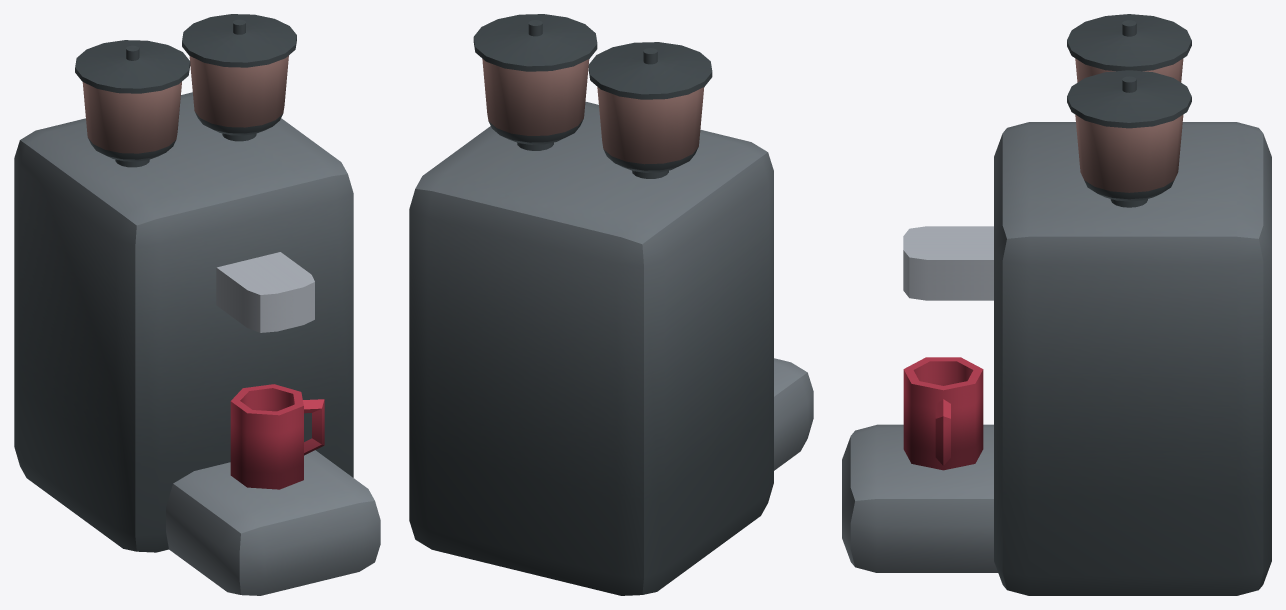
File: CoffeMachine_01.fbx
The picture shows the model from 3 angles, left to right: view 1: azimuth 30°, elevation 25°; view 2: azimuth 150°, elevation 25°; view 3: azimuth 270°, elevation 25°; orthographic projection. The views are drawn at different scales.
Visible parts, largest first — view 1: Box018; view 2: Box018; view 3: Box018.
Boxes of the visible parts, <box> form: Box018: <box>14,14,380,595</box>; Box018: <box>409,14,813,595</box>; Box018: <box>842,14,1271,595</box>.
Size of the model in its own units: 75 by 142 by 112.
